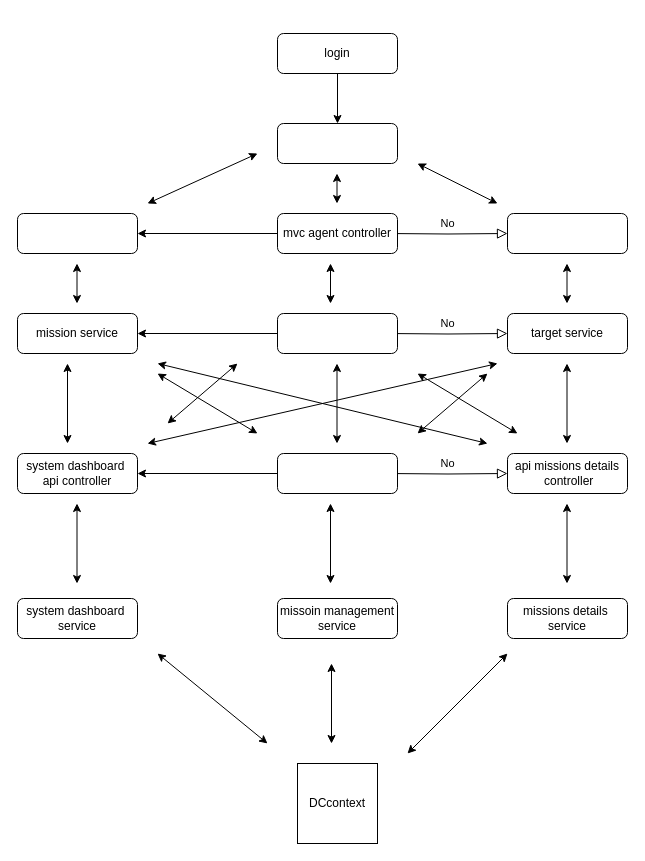
Some shapes in this 645 by 861 pixel diagram are drawn without their labels. The shapes that lost their labels are listed below. From the top down, each one's centre as x and y in pixels, then its label:
the point at 337,143: client view
the point at 77,233: mvc missions controller
the point at 567,233: mvc target controller
the point at 337,333: agent service
the point at 337,473: mission management api controller
